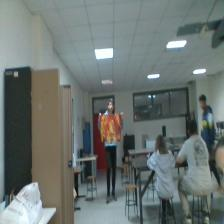fire-poster: (100, 114, 121, 142)
